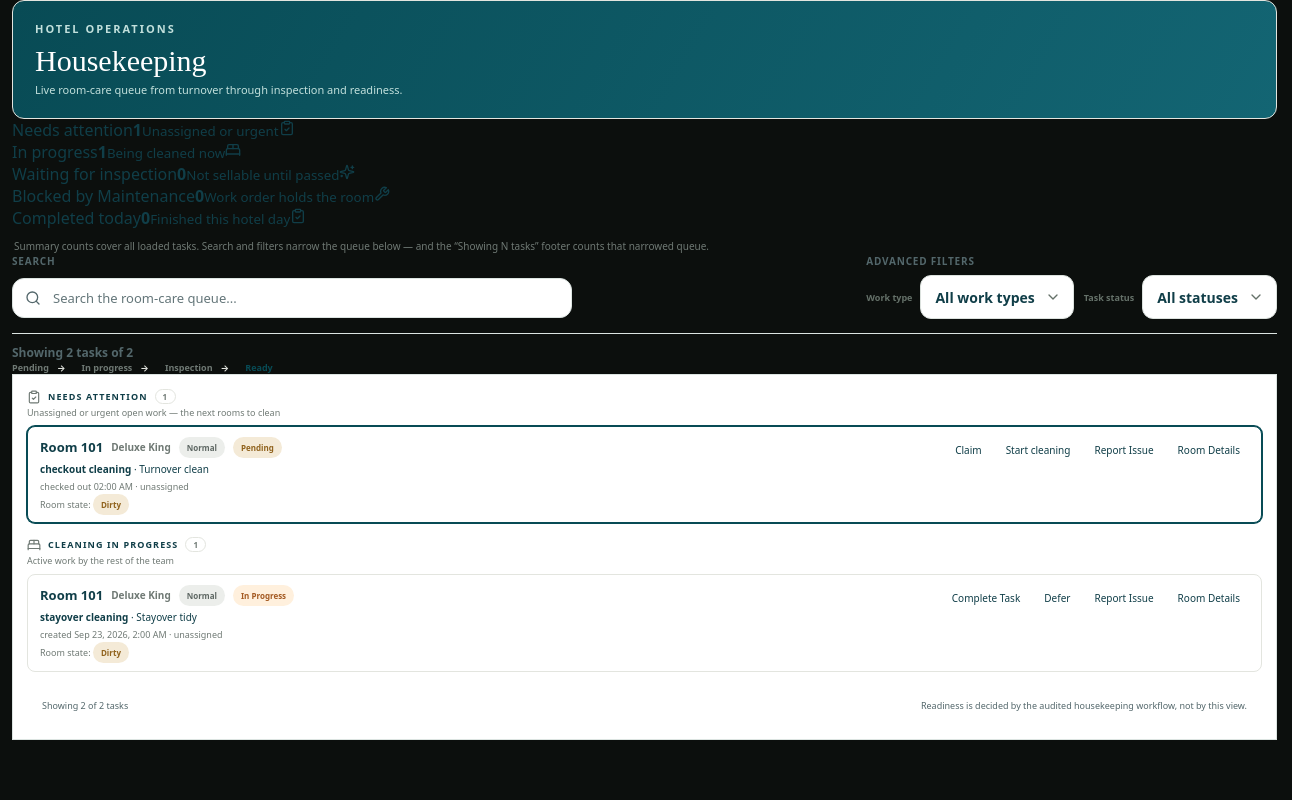
Test: HousekeepingQueuePanel workspace › filters the queue by work type and status while cards stay global
# Narrow to stayover work: only the stayover card remains listed.
Click the button with aria-label "Filter by work type": click(997, 297) [920, 275, 1074, 319]
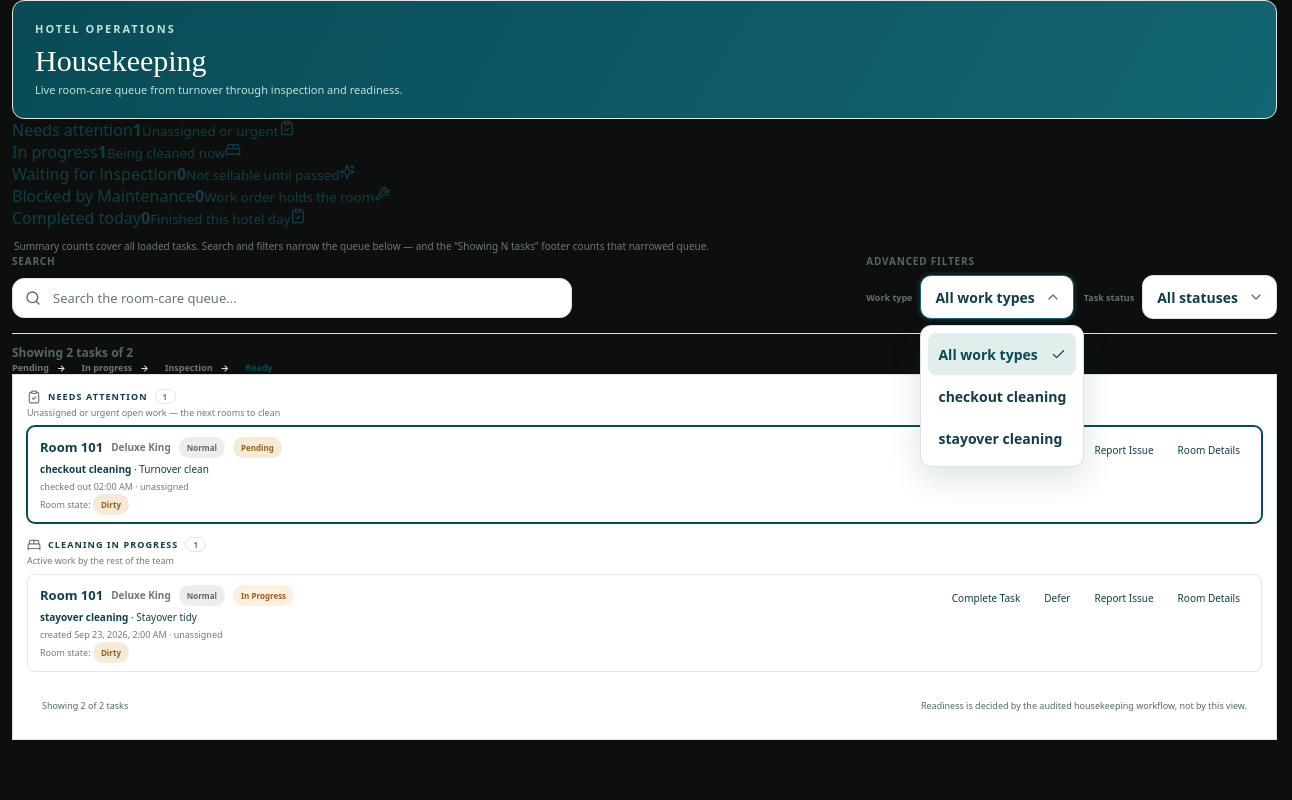
Click the option "stayover cleaning": click(1000, 438) [938, 428, 1062, 448]
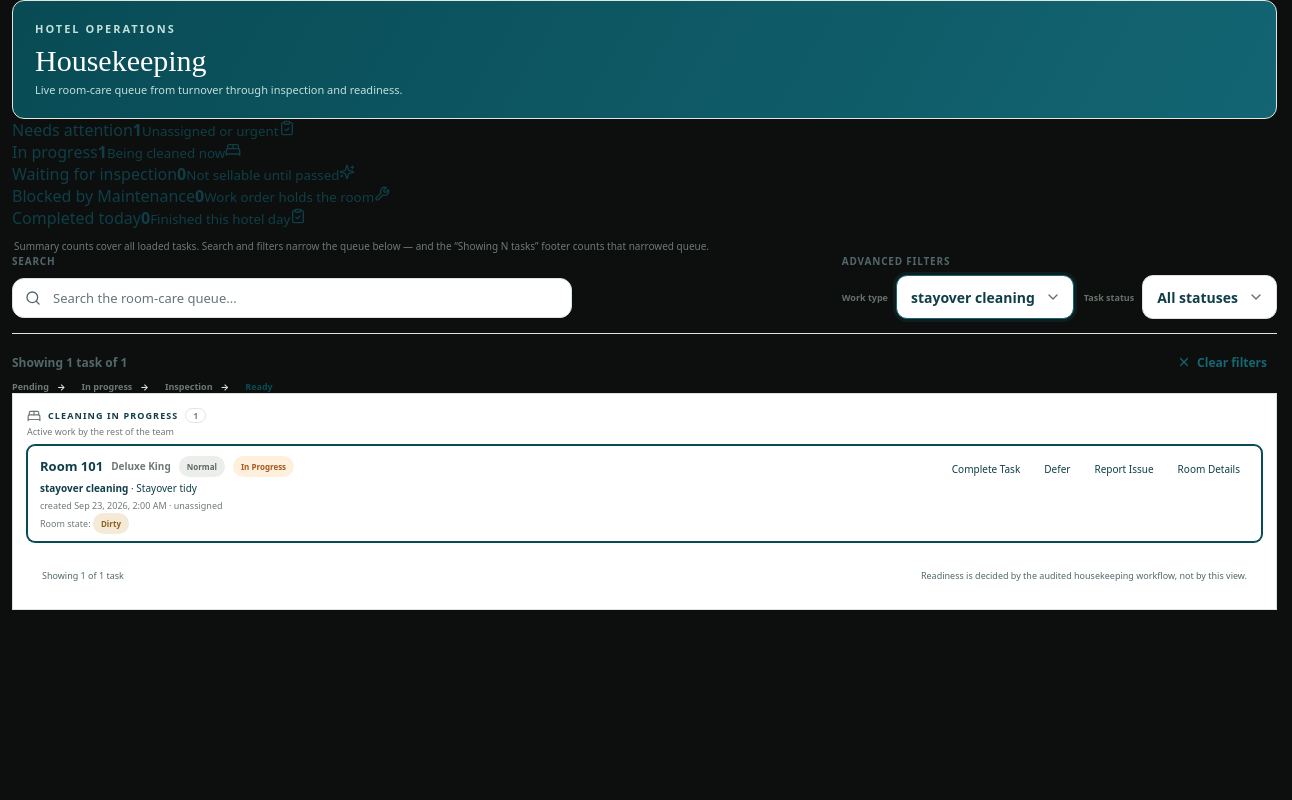
Expected: the text "stayover cleaning" next to "Stayover tidy" is shown, [40, 480, 128, 494]
Result: the option "checkout cleaning" is gone
